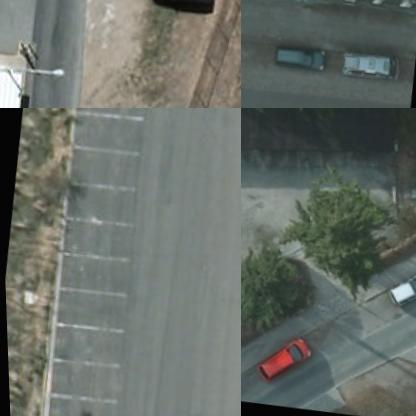car: (249, 334, 307, 390), (268, 42, 324, 76), (380, 267, 415, 312), (142, 0, 209, 8)
van: (336, 52, 392, 86)
